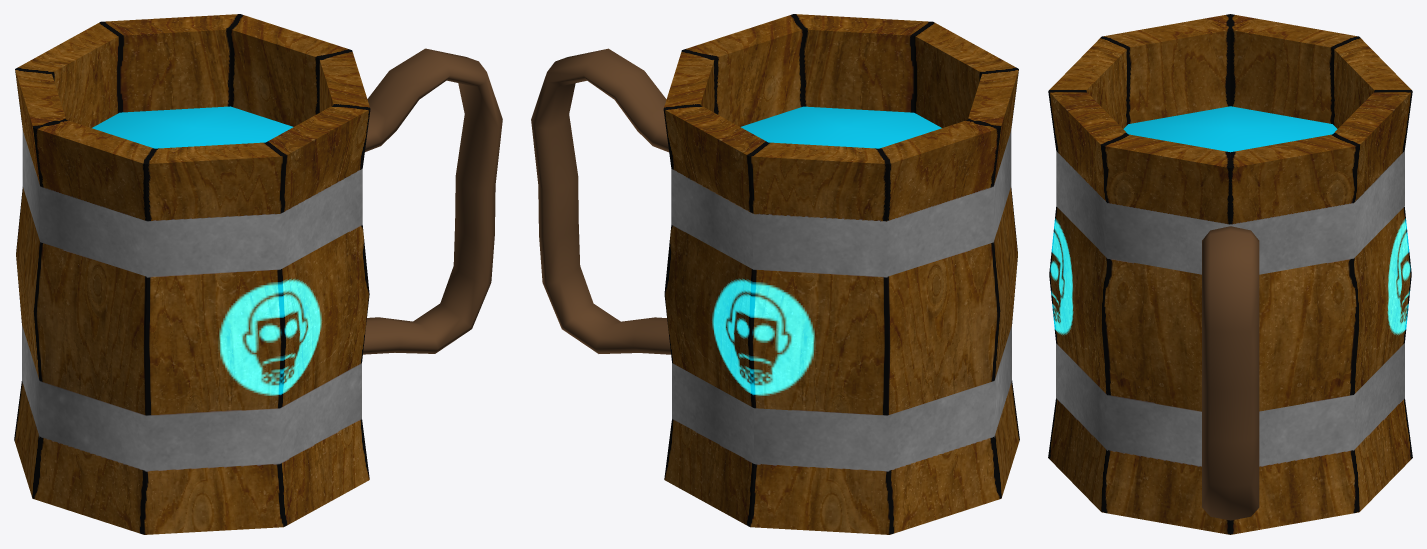
3 views of the same model, side by side, from view 1: azimuth 30°, elevation 25°; view 2: azimuth 150°, elevation 25°; view 3: azimuth 270°, elevation 25° (orthographic).
Parts seen in each view (by area): view 1: Mug; view 2: Mug; view 3: Mug.
Part boxes in pixels (x1,y1,x2,y2): Mug: [14, 14, 502, 534]; Mug: [531, 14, 1019, 534]; Mug: [1048, 14, 1412, 534].
Bounding box in the file's own units: 124 × 94.98 × 85.55.
1 material, 1 textured.
